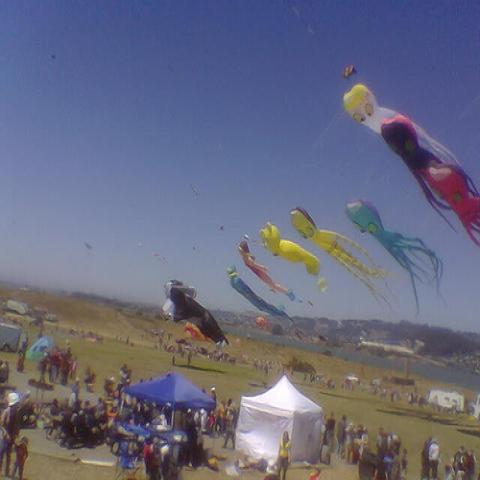truck: (0, 320, 20, 354)
